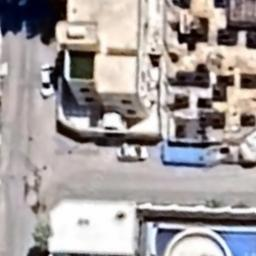sedan: (38, 61, 58, 97), (116, 142, 152, 162)
